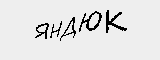Д: (59, 15, 81, 43)
К: (104, 8, 131, 34)
Н: (48, 20, 64, 42)
Ю: (78, 9, 103, 35)
Я: (32, 20, 51, 44)
